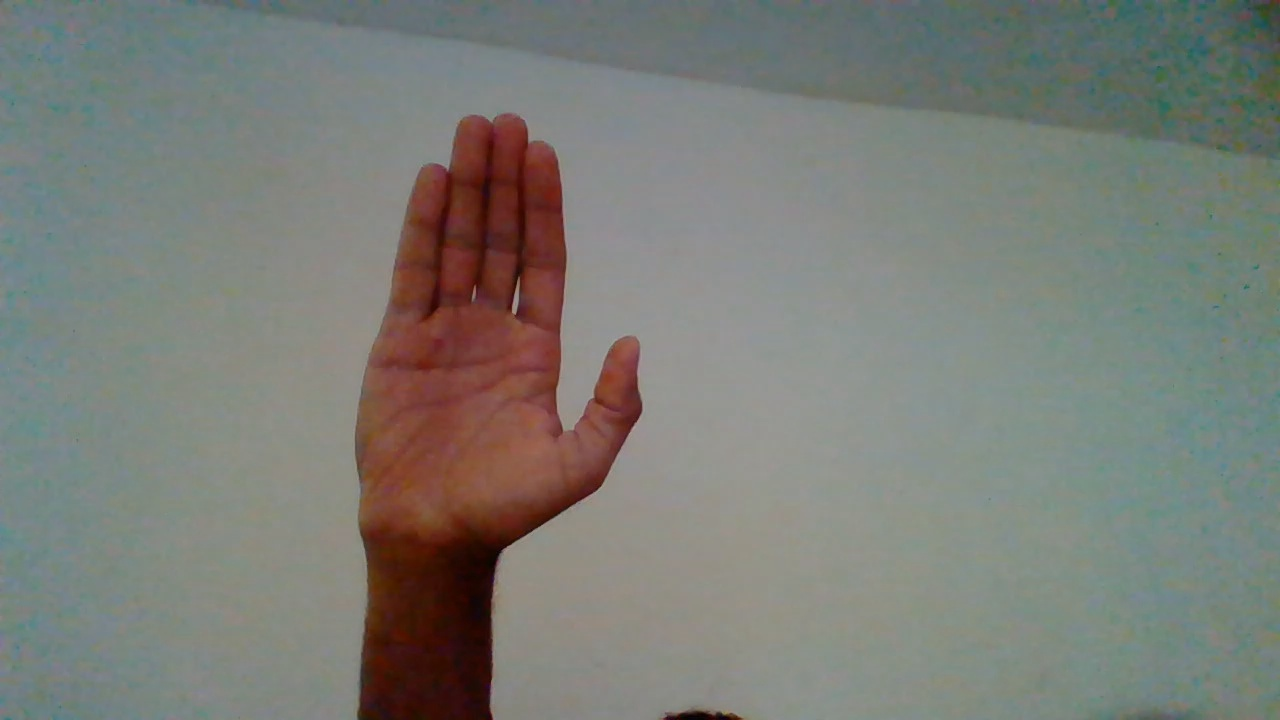ha: (353, 111, 615, 607)
